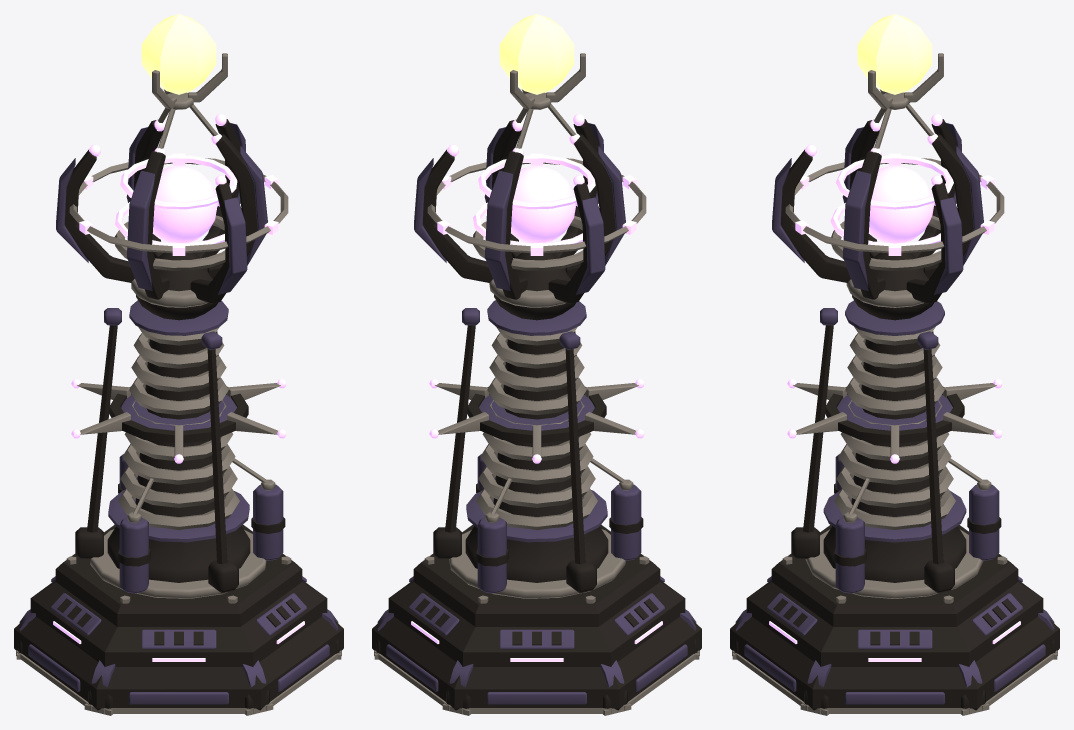
File: tower_arc.glb
3 renders of one model, left to right at view 1: azimuth 30°, elevation 25°; view 2: azimuth 150°, elevation 25°; view 3: azimuth 270°, elevation 25°, orthographic.
Parts seen in each view (by area): view 1: base, turret, lvl3, lvl2, orb, tower_arc; view 2: base, turret, lvl3, lvl2, orb, tower_arc; view 3: base, turret, lvl3, lvl2, orb, tower_arc.
Part boxes in pixels (box(x1,y1,x2,y2)): base: box(14, 295, 343, 715); turret: box(115, 53, 267, 307); lvl3: box(56, 114, 288, 303); lvl2: box(71, 379, 286, 593); orb: box(115, 155, 237, 245); tower_arc: box(141, 14, 216, 94); base: box(372, 294, 701, 715); turret: box(473, 53, 625, 307); lvl3: box(414, 114, 646, 303); lvl2: box(429, 379, 644, 593); orb: box(473, 155, 595, 245); tower_arc: box(499, 14, 574, 94); base: box(730, 295, 1059, 715); turret: box(831, 53, 983, 307); lvl3: box(772, 114, 1004, 303); lvl2: box(787, 379, 1002, 593); orb: box(830, 155, 953, 245); tower_arc: box(857, 14, 932, 94).
Bounding box in the file's own units: 1.66 × 3.95 × 1.85.
